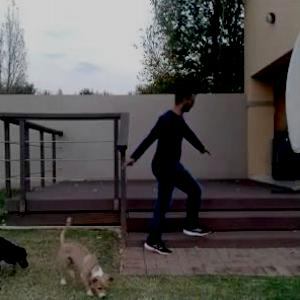land: (93, 79, 218, 260)
